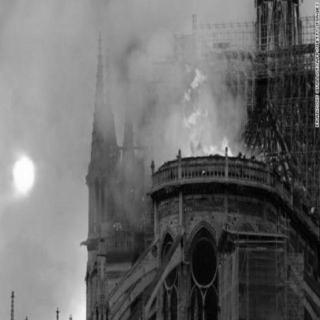Fire: (240, 101, 312, 180), (178, 56, 230, 154)
other: (1, 137, 45, 209)
